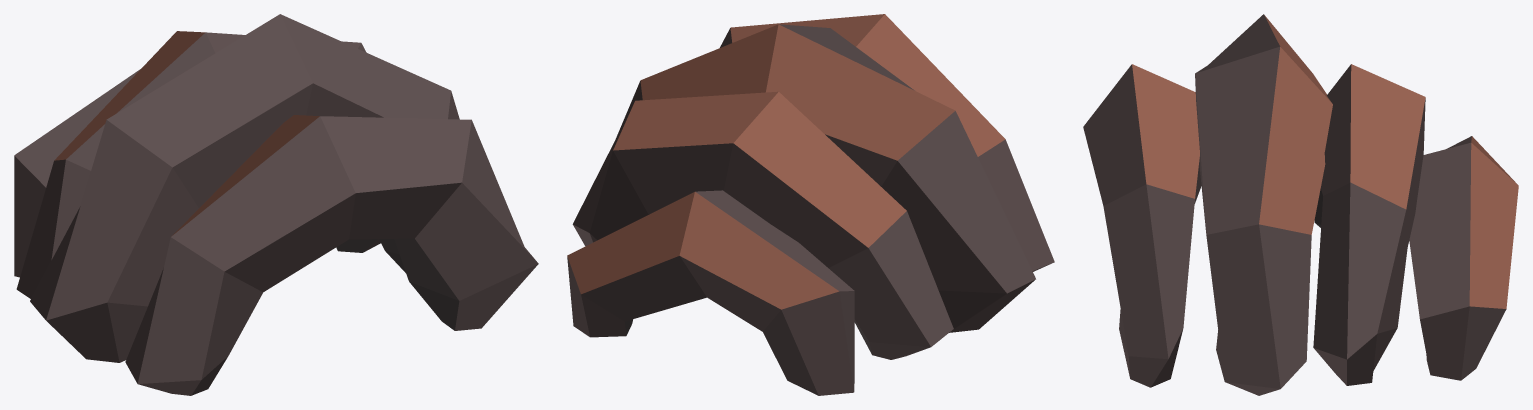
Rendered from TB_D_Env_BoneD_C.FBX.
3 renders of one model, left to right at view 1: azimuth 30°, elevation 25°; view 2: azimuth 150°, elevation 25°; view 3: azimuth 270°, elevation 25°, orthographic. The views are drawn at different scales.
Visible parts, largest first — view 1: TB_D_Env_BoneD_C; view 2: TB_D_Env_BoneD_C; view 3: TB_D_Env_BoneD_C.
Part boxes in pixels (bbox=[...]): TB_D_Env_BoneD_C: bbox=[14, 14, 538, 395]; TB_D_Env_BoneD_C: bbox=[567, 14, 1054, 395]; TB_D_Env_BoneD_C: bbox=[1083, 14, 1518, 395].
Bounding box in the file's own units: 1.65 × 0.9755 × 1.4.
